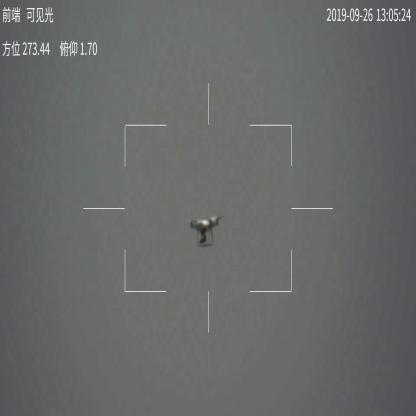uav: (182, 214, 223, 249)
